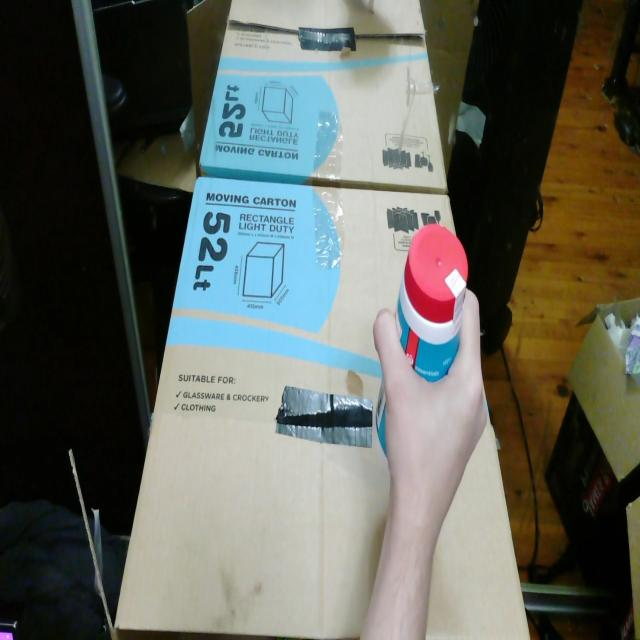woolworths_salt_bottle: (395, 224, 468, 382), (376, 379, 387, 457)
